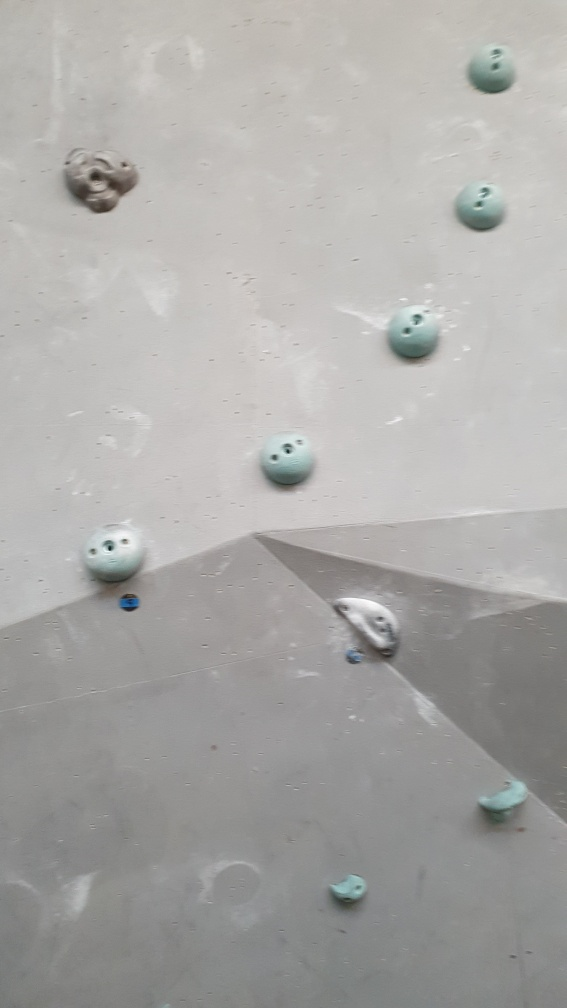Hand Start: (114, 587, 144, 614), (342, 645, 372, 667)
Jug: (61, 147, 147, 218)
Sloper: (382, 296, 447, 364), (83, 521, 149, 585), (257, 426, 320, 489), (452, 174, 509, 234), (460, 44, 523, 94)
